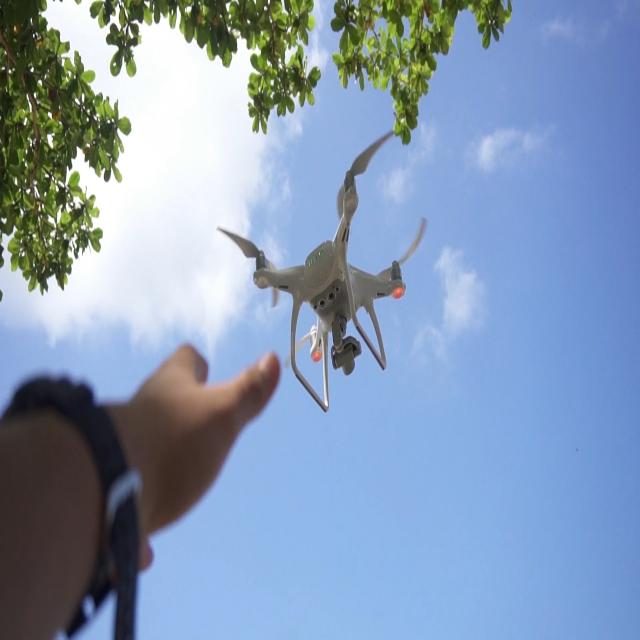Drone: (252, 161, 404, 376)
